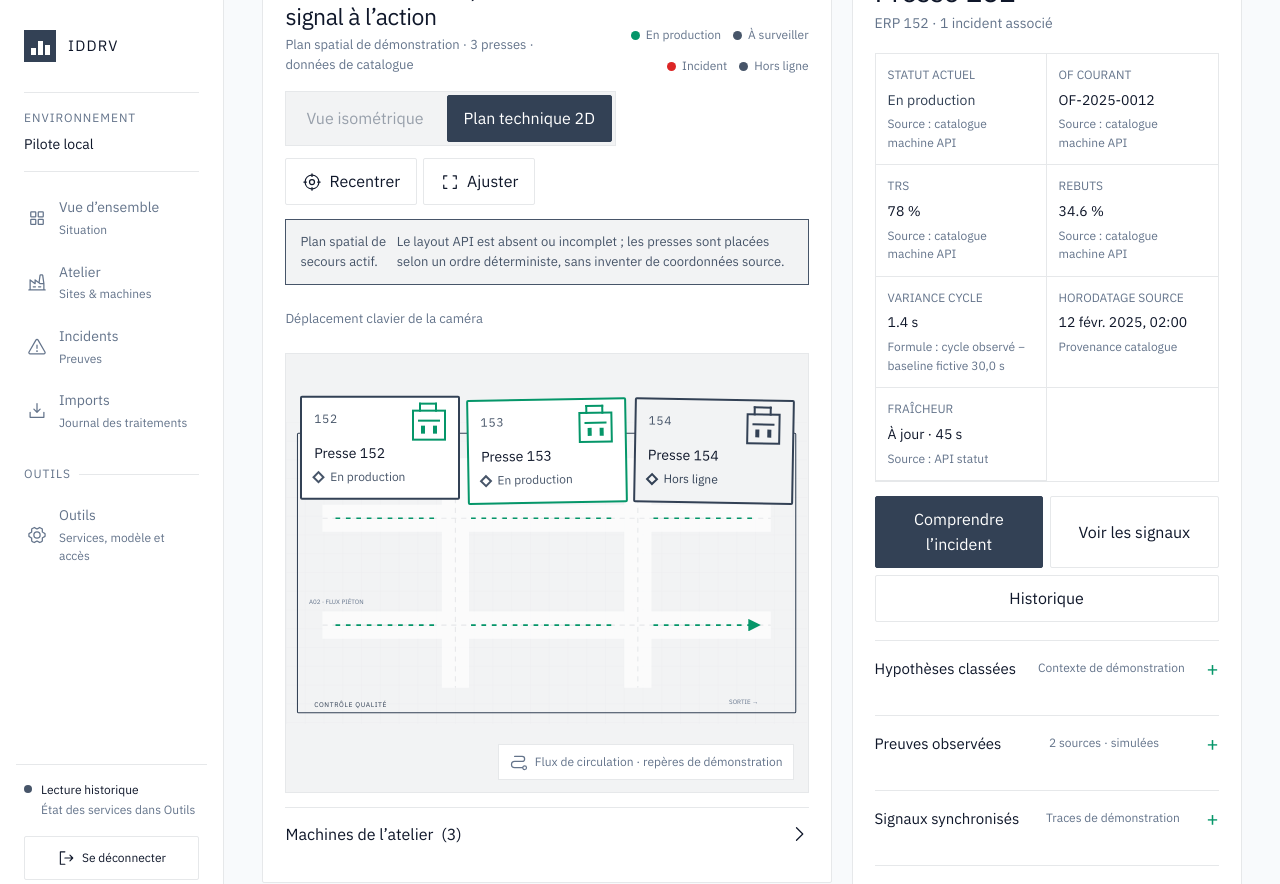
Scenario: showroom industriel › ne lie pas les preuves S001 à une autre machine
(page scrolled)
Click the button "153 Presse 153 En production" at [547, 451], box x1=466 y1=397 x2=628 y2=504
(page scrolled)
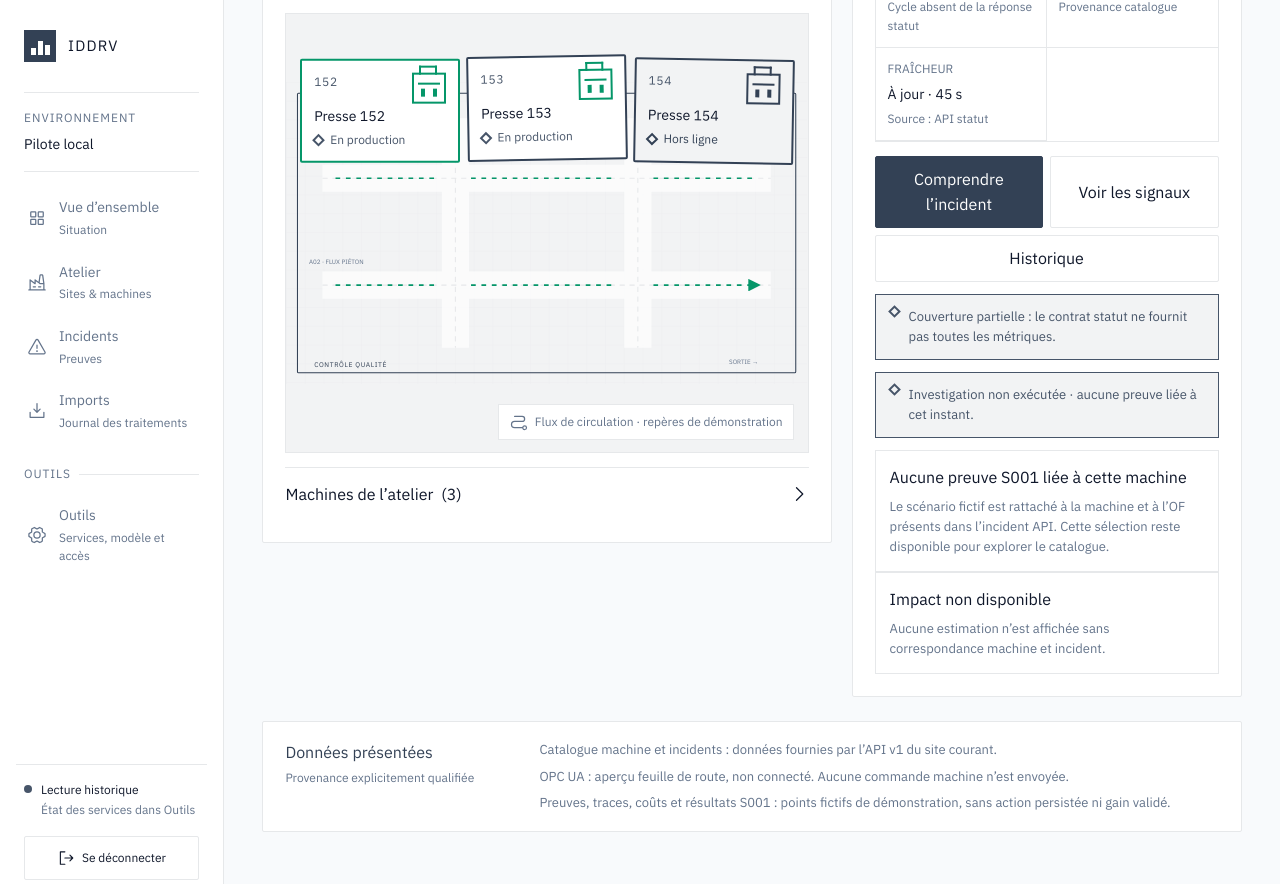
Check: the heading "Aucune preuve S001 liée à cette machine" is shown, box x1=890 y1=465 x2=1204 y2=490
